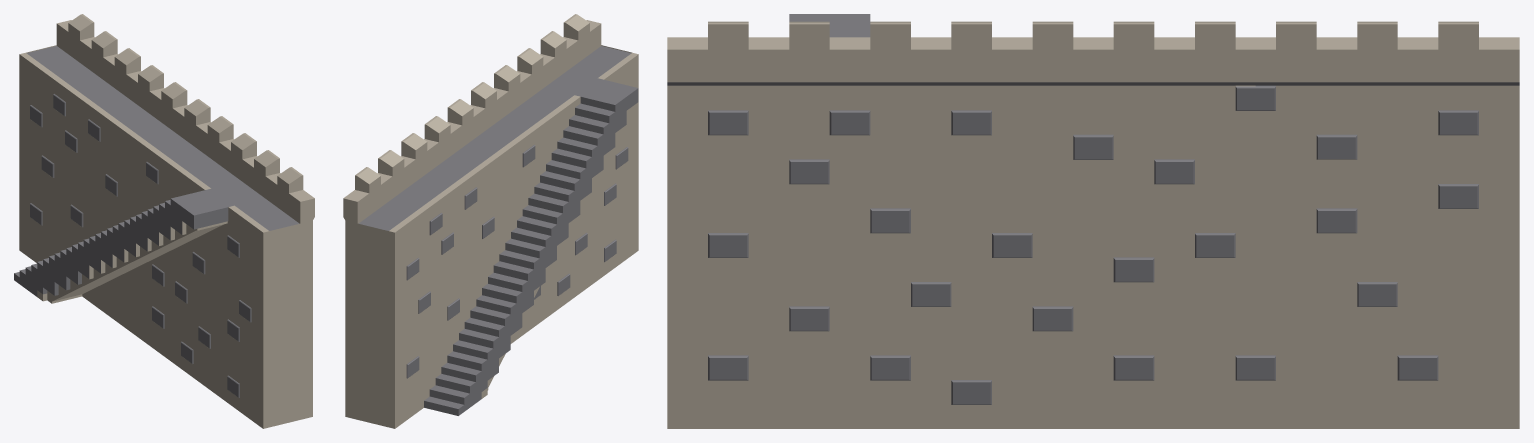
File: CastleWall.fbx
3 renders of one model, left to right at view 1: azimuth 30°, elevation 25°; view 2: azimuth 150°, elevation 25°; view 3: azimuth 270°, elevation 25°, orthographic. The views are drawn at different scales.
Visible parts, largest first — view 1: Cube.002; view 2: Cube.002; view 3: Cube.002.
Part boxes in pixels (x1=…): Cube.002: x1=14, y1=14, x2=314, y2=428; Cube.002: x1=343, y1=14, x2=638, y2=428; Cube.002: x1=667, y1=14, x2=1519, y2=428.
Bounding box in the file's own units: 125 × 322 × 612.
